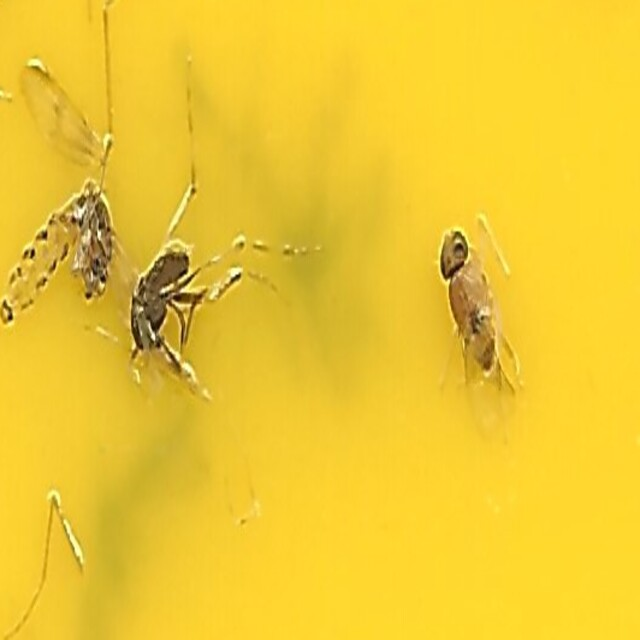Brachycera: (120, 227, 230, 390), (431, 227, 520, 413)
